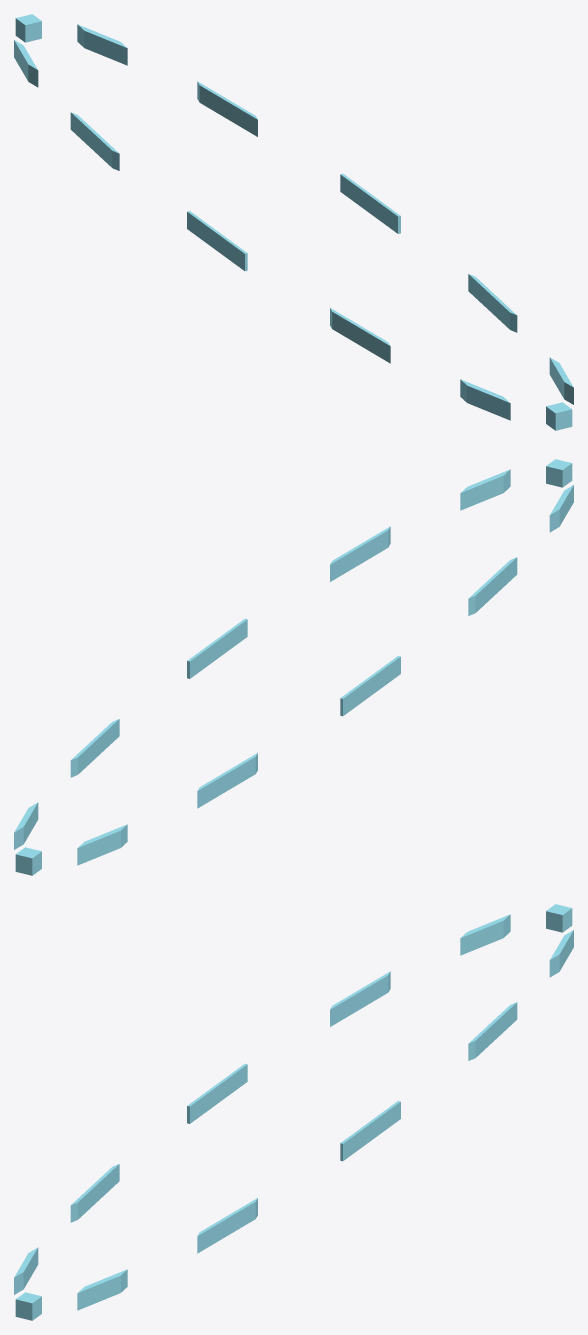
The model's file is SM_Keeper_Nun_Bars.fbx.
The picture shows the model from 3 angles, top to bottom: view 1: azimuth 30°, elevation 25°; view 2: azimuth 150°, elevation 25°; view 3: azimuth 330°, elevation 25°; orthographic projection.
Visible parts, largest first — view 1: SM_Keeper_Nun_Bars; view 2: SM_Keeper_Nun_Bars; view 3: SM_Keeper_Nun_Bars.
Boxes of the visible parts, x1,y1,x2,y2 form: SM_Keeper_Nun_Bars: (14, 14, 573, 430); SM_Keeper_Nun_Bars: (14, 459, 573, 875); SM_Keeper_Nun_Bars: (14, 904, 573, 1320).
Bounding box in the file's own units: 9.33 × 1 × 56.
